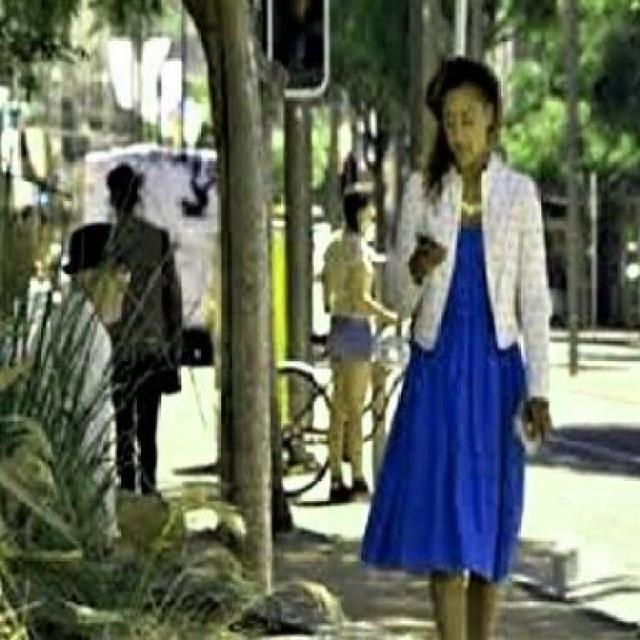Person: (388, 47, 566, 638), (82, 160, 178, 506), (319, 176, 386, 510)
